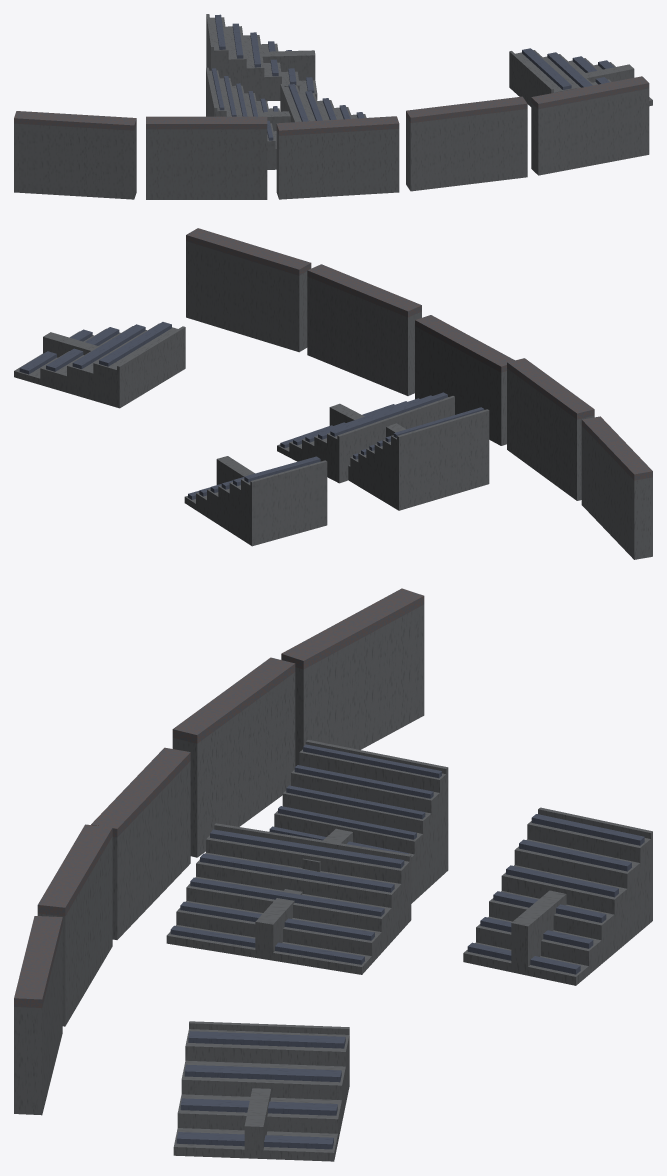
Rendered from SM_City_AlHalqa_5.fbx.
3 renders of one model, top to bottom at view 1: azimuth 30°, elevation 25°; view 2: azimuth 150°, elevation 25°; view 3: azimuth 270°, elevation 25°, orthographic. The views are drawn at different scales.
Parts seen in each view (by area): view 1: SM_City_AlHalqa_5; view 2: SM_City_AlHalqa_5; view 3: SM_City_AlHalqa_5.
Part boxes in pixels (x1=…): SM_City_AlHalqa_5: x1=14, y1=14, x2=652, y2=199; SM_City_AlHalqa_5: x1=14, y1=228, x2=652, y2=559; SM_City_AlHalqa_5: x1=14, y1=588, x2=652, y2=1161.
Size of the model in its own units: 4530 by 571 by 2698.
4 materials, 4 textured.
